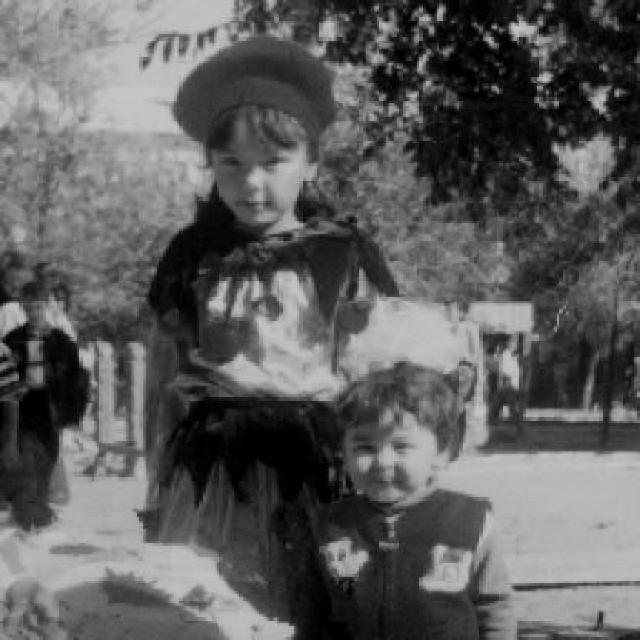child: (288, 360, 521, 637)
